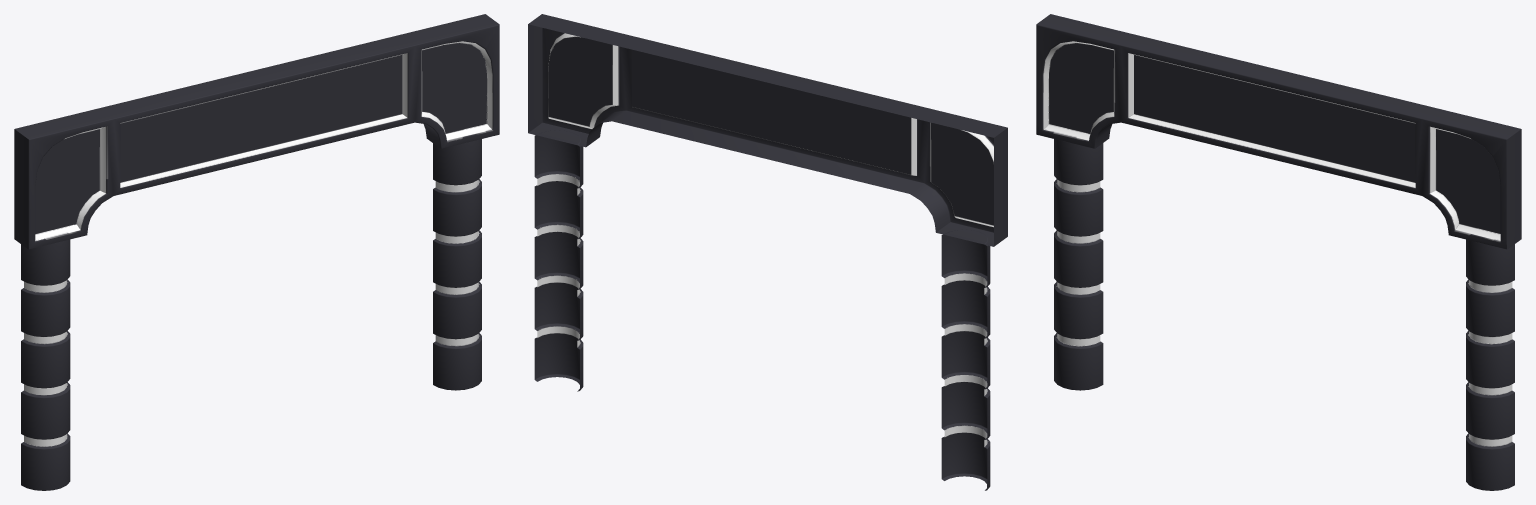
File: DoorFrameLight03_1.FBX
3 renders of one model, left to right at view 1: azimuth 30°, elevation 25°; view 2: azimuth 150°, elevation 25°; view 3: azimuth 330°, elevation 25°, orthographic.
Parts seen in each view (by area): view 1: DoorFrame03; view 2: DoorFrame03; view 3: DoorFrame03.
Boxes of the visible parts, <box> form: DoorFrame03: <box>14,14,499,490</box>; DoorFrame03: <box>528,14,1007,490</box>; DoorFrame03: <box>1036,14,1521,490</box>.
Size of the model in its own units: 481 by 350 by 25.65.
